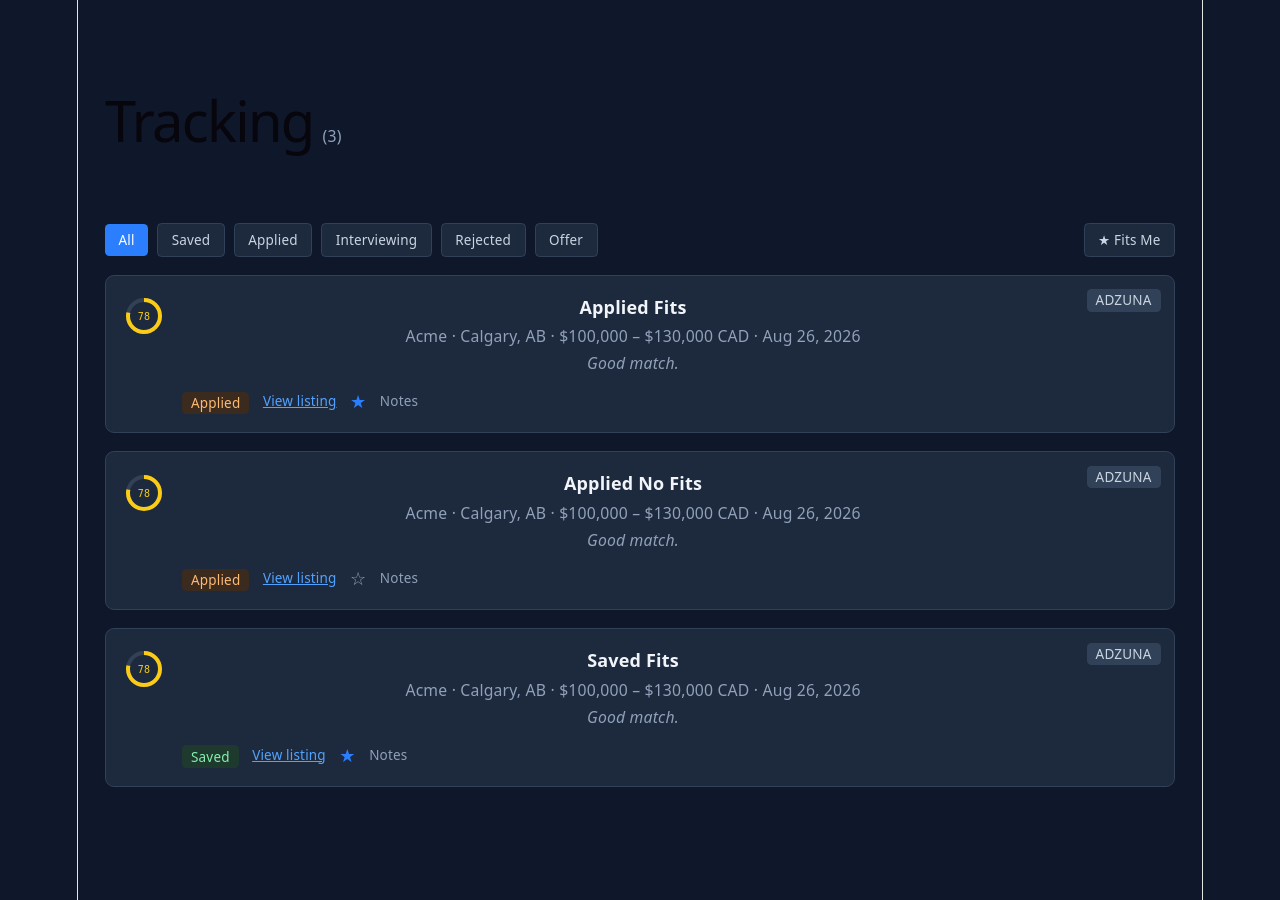
Test: Tracking › Fits Me filter combines with a non-All tab (Fits Me + Applied) to the intersection
The width and height of the screenshot is (1280, 900).
expect the text "Applied Fits" is shown: met, box [579,295,687,319]
Click the 1st button "Applied": x=273, y=240 [234,223,312,257]
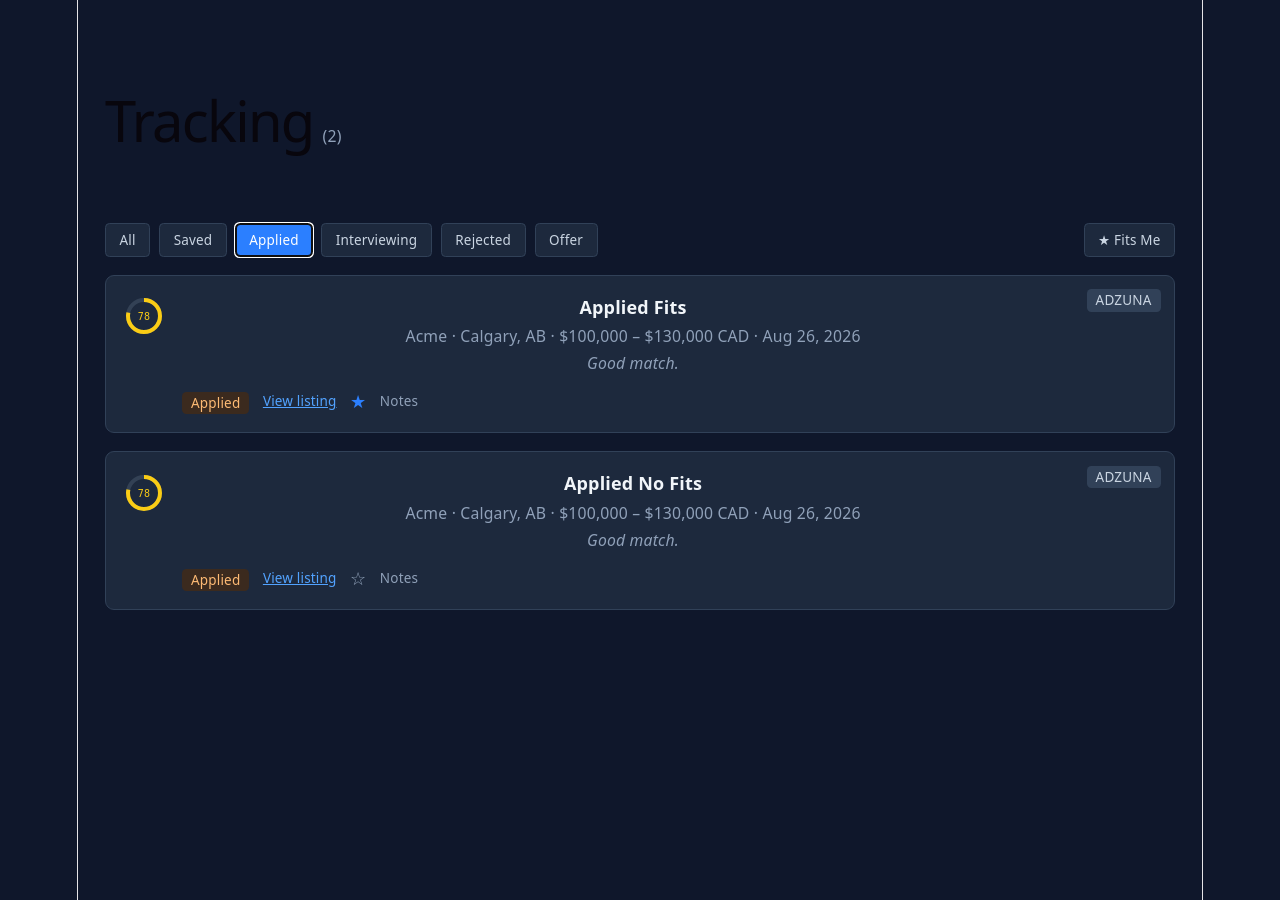
Click the button with test id "fits-me-filter-button": x=1129, y=240 [1084,223,1175,257]
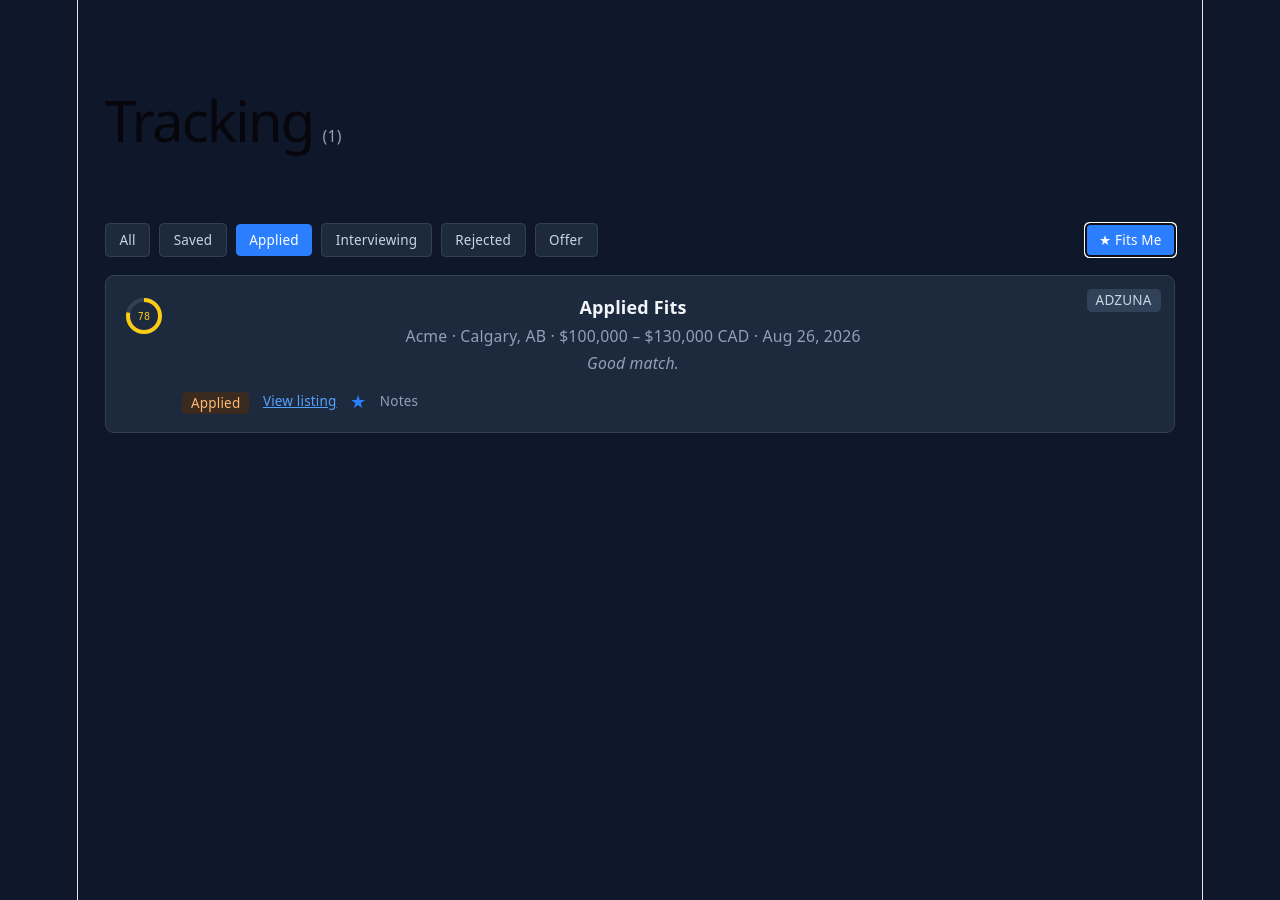
expect the text "Applied Fits" is shown: met, box [579,295,687,319]
expect the text "Applied No Fits" is gone: met
